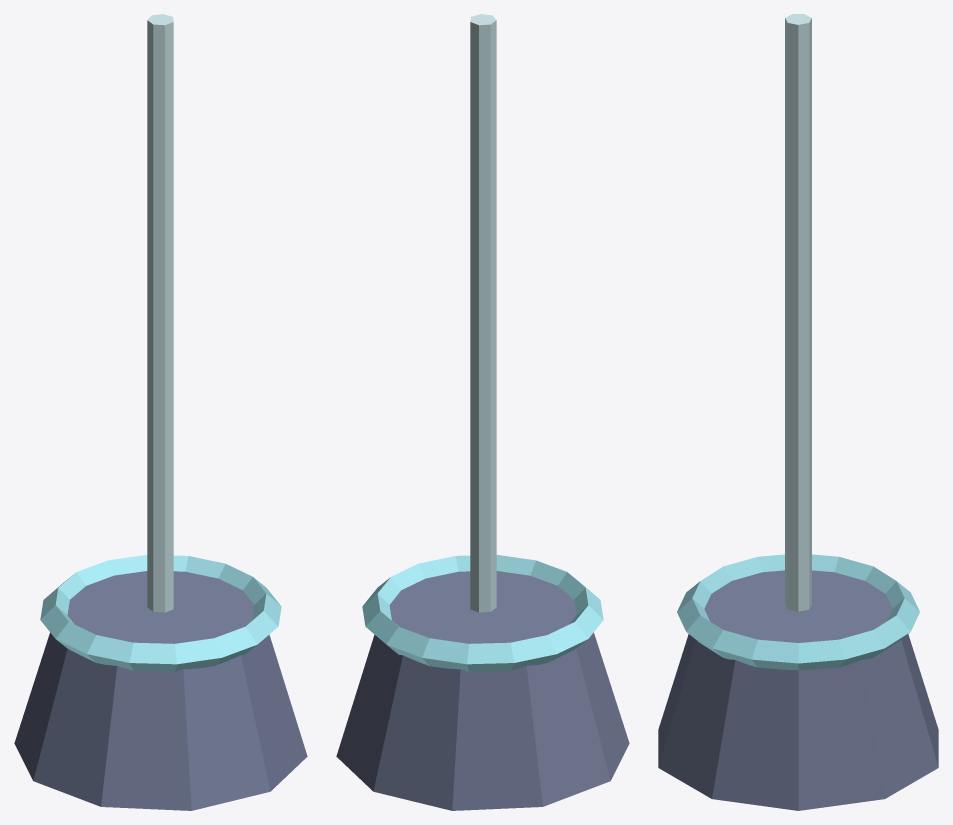
File: holograma_pedestal.glb
The picture shows the model from 3 angles, left to right: view 1: azimuth 30°, elevation 25°; view 2: azimuth 150°, elevation 25°; view 3: azimuth 270°, elevation 25°; orthographic projection.
Parts seen in each view (by area): view 1: holograma_pedestal; view 2: holograma_pedestal; view 3: holograma_pedestal.
Part boxes in pixels (x1,y1,x2,y2): holograma_pedestal: (14, 14, 307, 810); holograma_pedestal: (336, 14, 629, 810); holograma_pedestal: (658, 14, 938, 810).
Size of the model in its own units: 0.86 by 2.35 by 0.8179.
